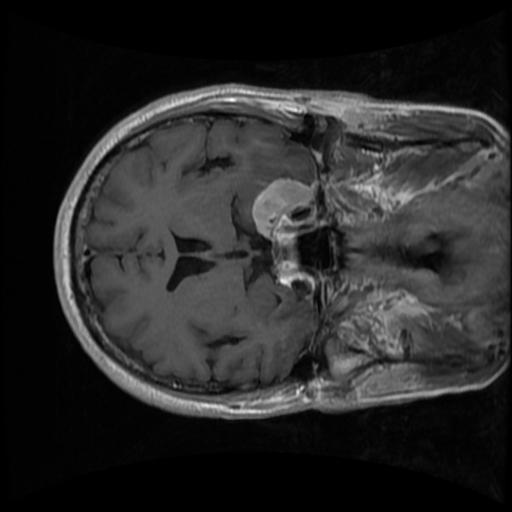meningioma: (252, 176, 311, 238)
